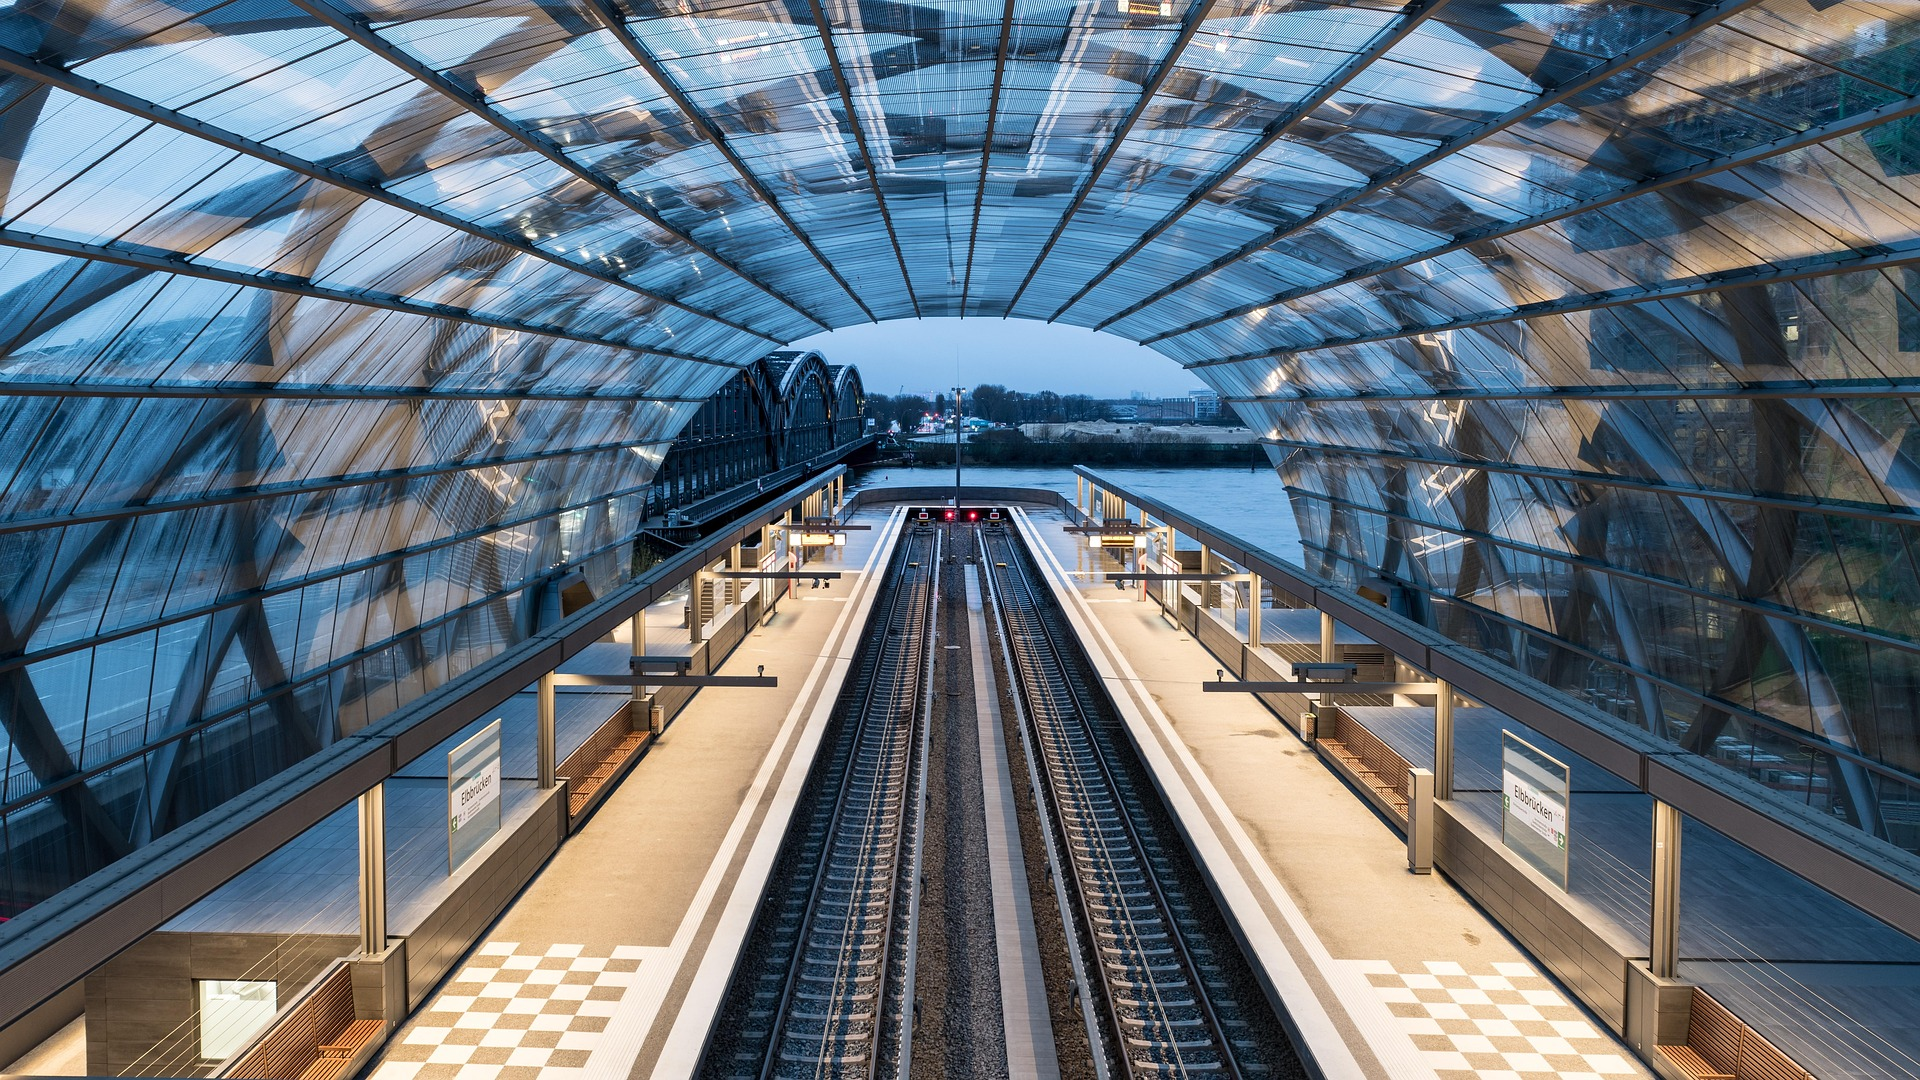voie1: (760, 530, 935, 1076)
voie2: (982, 527, 1241, 1071)
